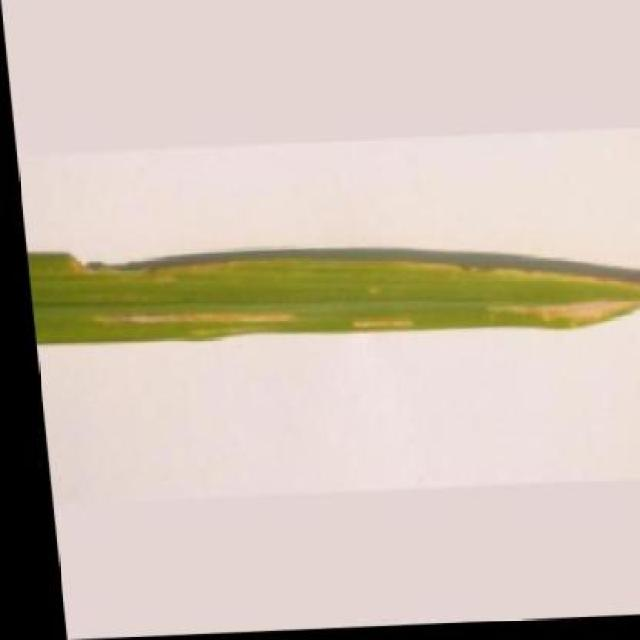Brown_Spot: (20, 224, 640, 356)
